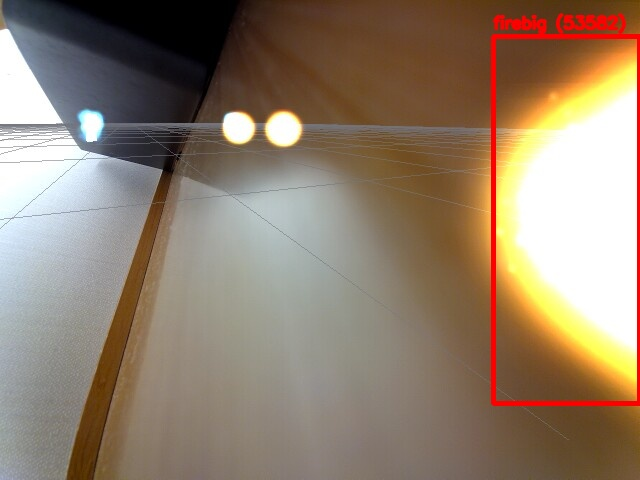firebig: (493, 36, 639, 403)
